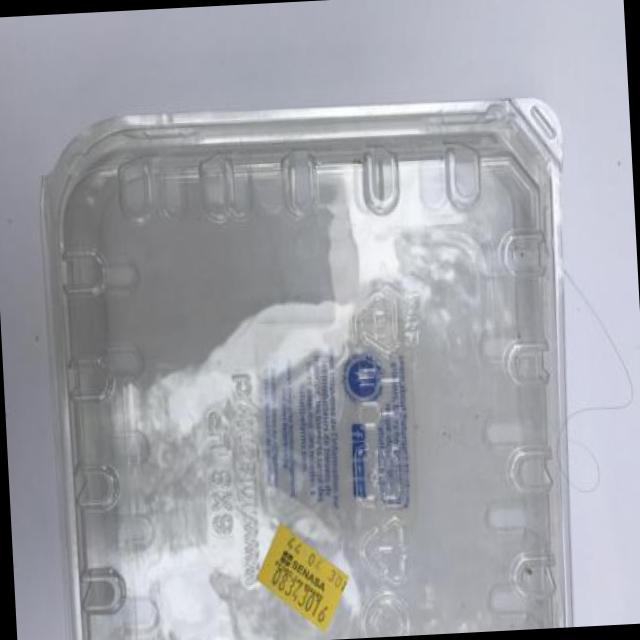Clamshell: (19, 75, 615, 640)
Label: (204, 316, 423, 546), (252, 512, 354, 636)
